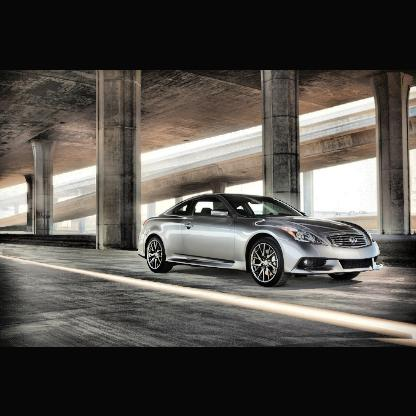Infiniti G Coupe IPL 2012: (134, 193, 388, 290)
